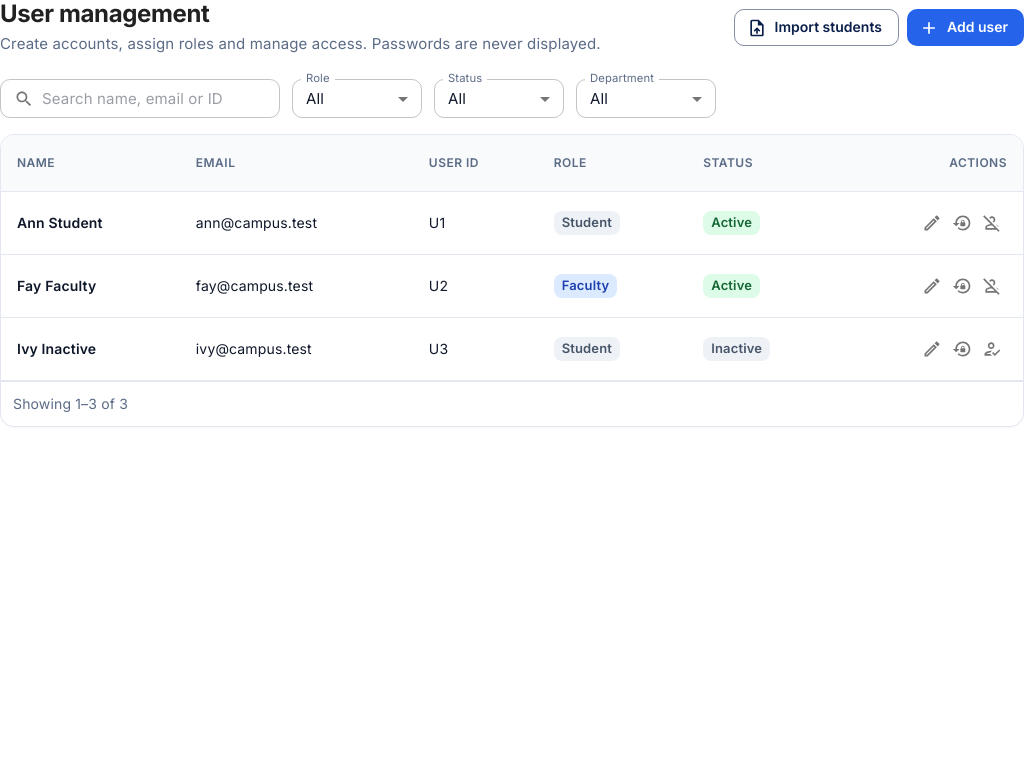
Test: create / edit user dialog › a 409 "already exists" from save is shown in the dialog and the dialog stays open
Click the button "Add user" at (965, 28), box x1=907 y1=9 x2=1023 y2=46
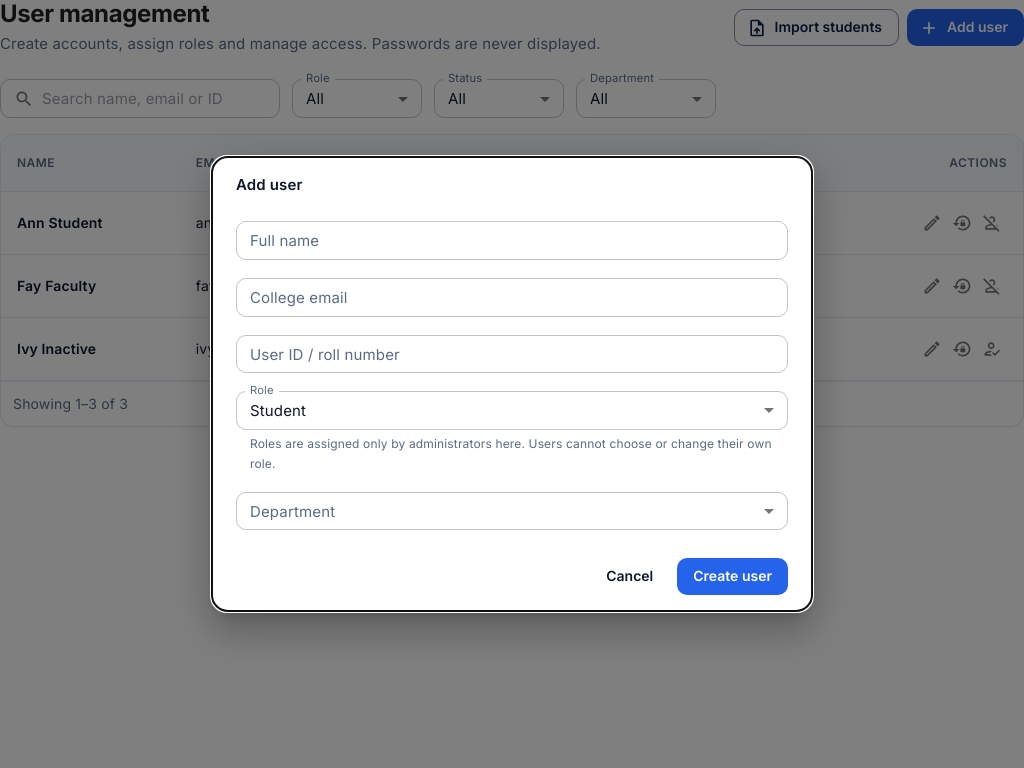
Type "Gina Green" into the field labelled "Full name" at (512, 241), box x1=236 y1=221 x2=788 y2=260
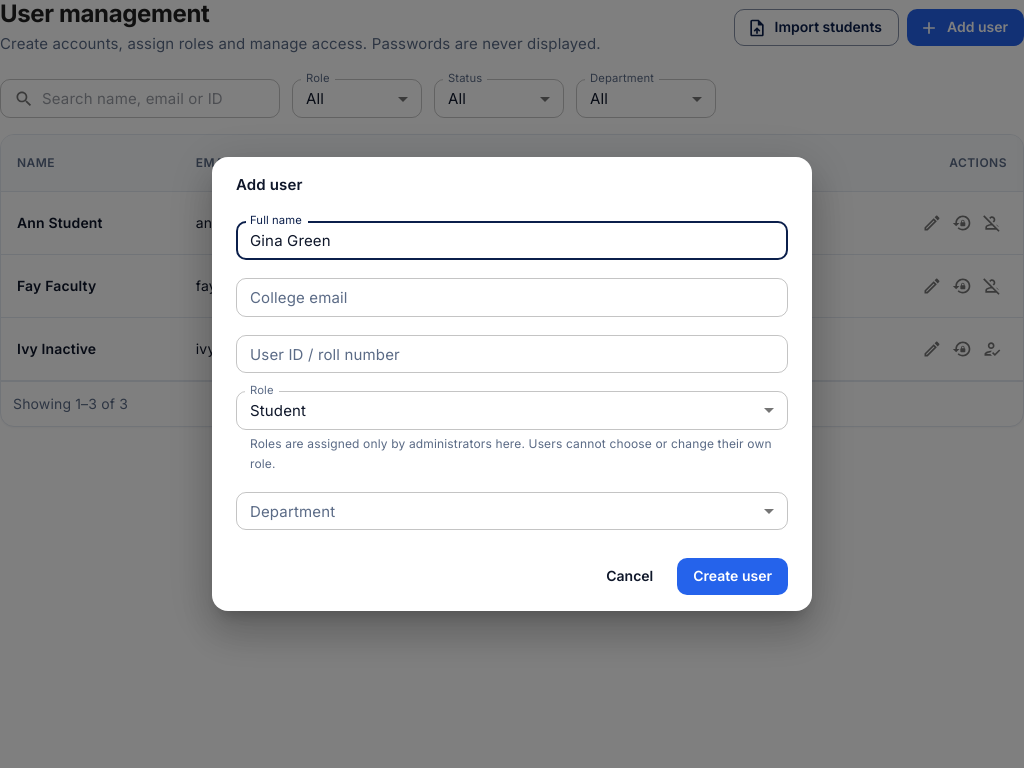
Type "ann@campus.test" into the field labelled "College email" at (512, 297), box x1=236 y1=278 x2=788 y2=317
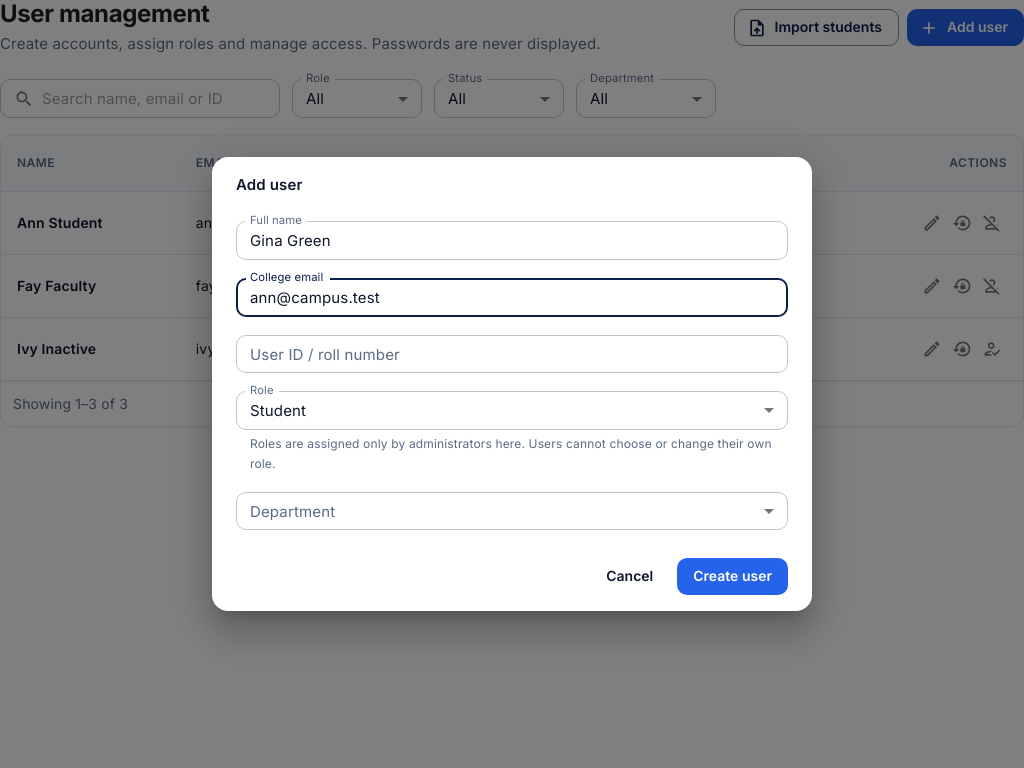
Type "G1" into the field labelled "User ID / roll number" at (512, 354), box x1=236 y1=335 x2=788 y2=373
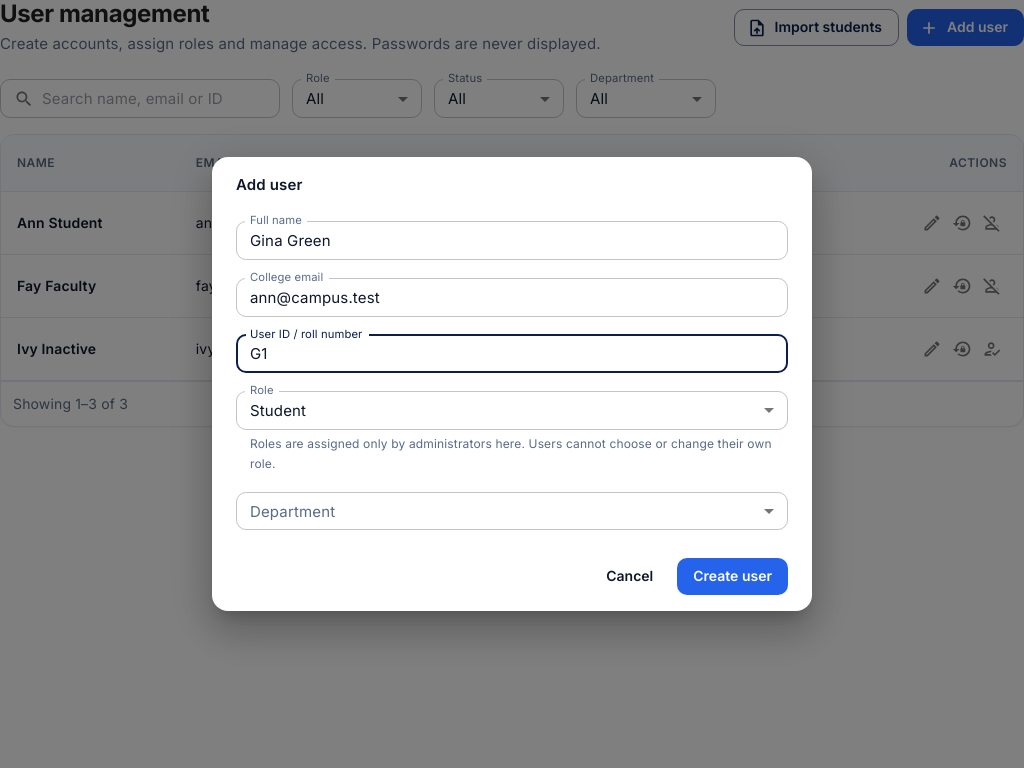
Click the button "Create user" at (733, 576), box x1=677 y1=558 x2=788 y2=595
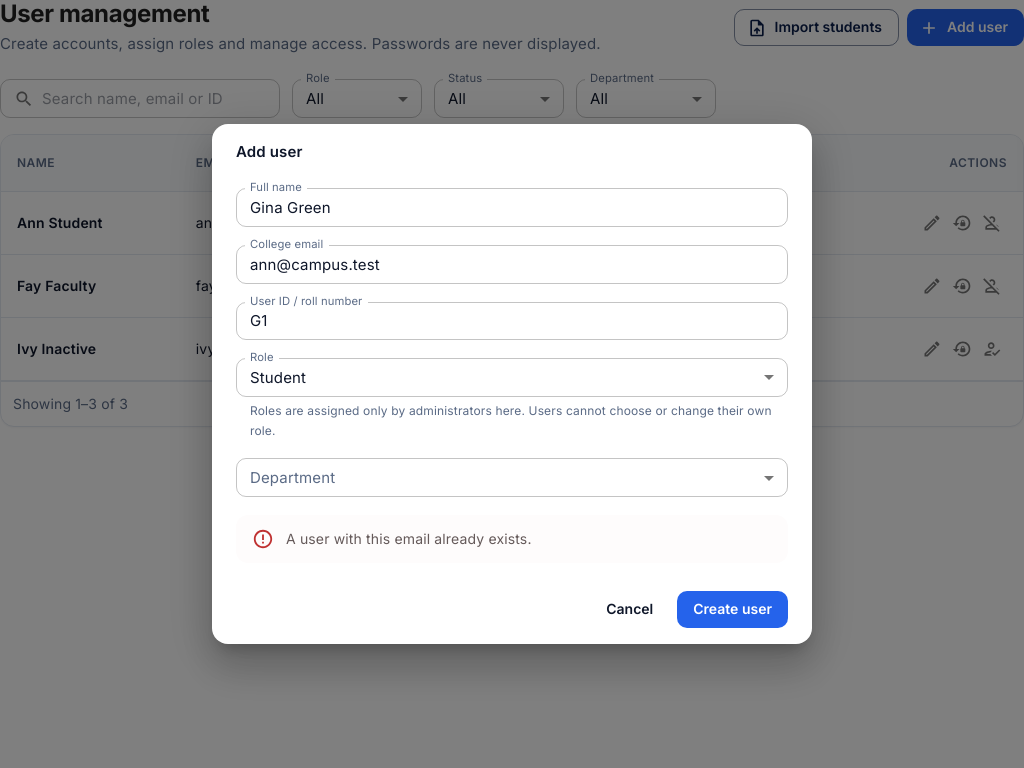
Check: the dialog "Add user" is shown, box x1=212 y1=124 x2=812 y2=644
Check: the text "A user with this email already exists." is shown, box x1=286 y1=530 x2=532 y2=547
